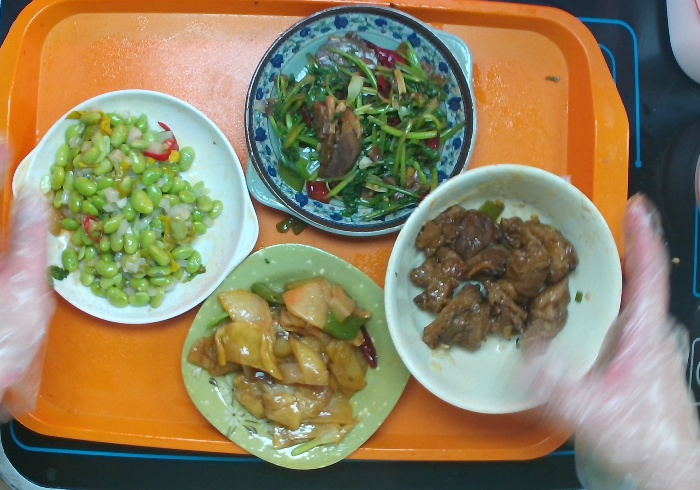NLDX-Bai_Se_Shuang_Er_Die: (8, 82, 266, 332)
NLDX-Bai_Se_Yuan_Wan: (379, 159, 630, 418)
NLDX-Lv_Hua_Fang_Die: (171, 240, 418, 473)
NLDX-Qing_Hua_Shuang_Er_Die: (241, 3, 483, 244)
